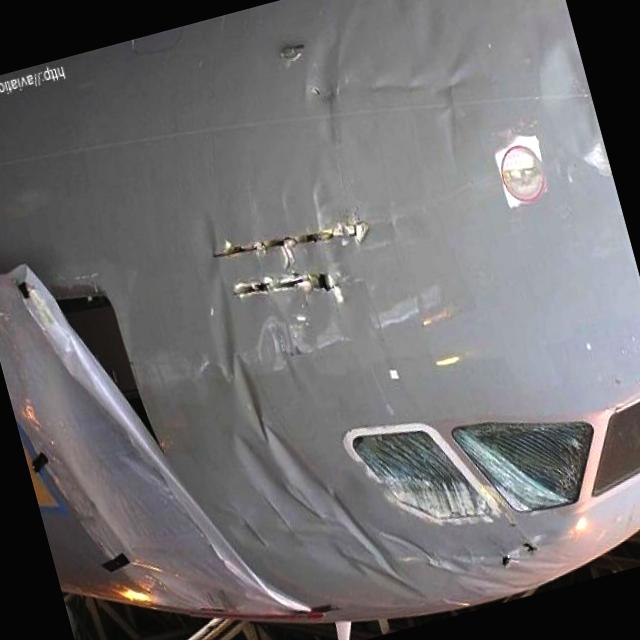crack: (198, 196, 392, 326)
dent: (176, 307, 466, 640)
